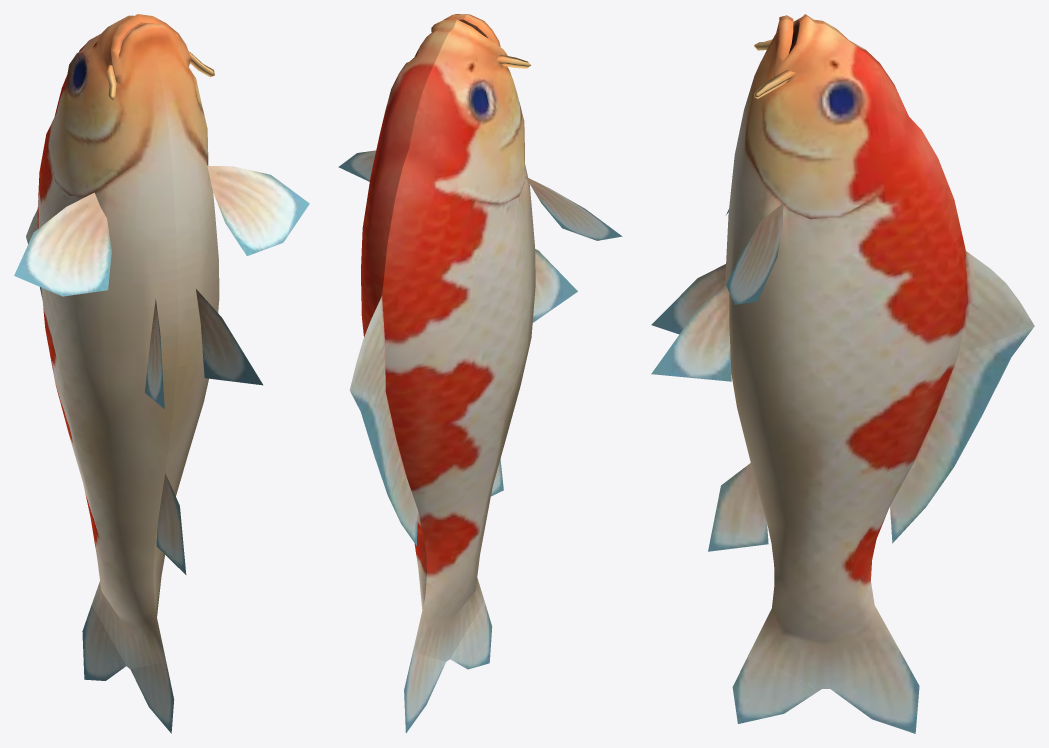
The model's file is koi.glb.
3 views of the same model, side by side, from view 1: azimuth 30°, elevation 25°; view 2: azimuth 150°, elevation 25°; view 3: azimuth 270°, elevation 25° (orthographic). The views are drawn at different scales.
Parts seen in each view (by area): view 1: FishNishikigoi_node7; view 2: FishNishikigoi_node7; view 3: FishNishikigoi_node7.
Part boxes in pixels (box(x1,y1,x2,y2)): FishNishikigoi_node7: box(14, 14, 309, 733); FishNishikigoi_node7: box(338, 14, 622, 733); FishNishikigoi_node7: box(651, 14, 1034, 733).
Bounding box in the file's own units: 0.3934 × 0.8953 × 0.4339.
1 material, 1 textured.
